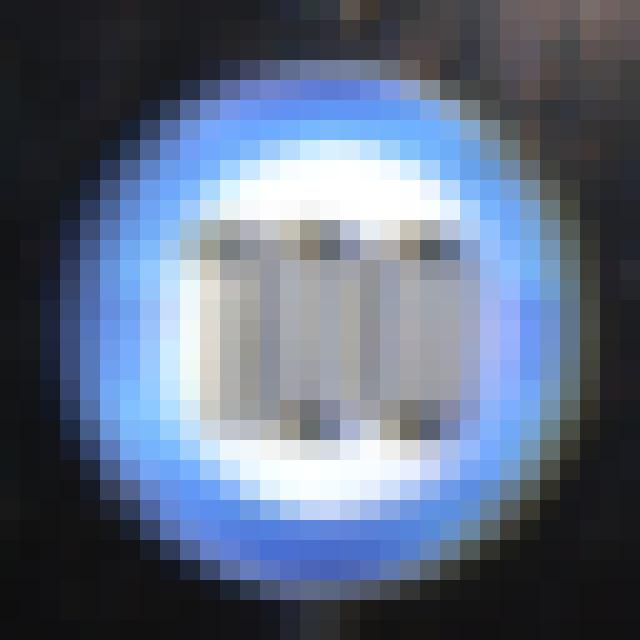SPEED LIMIT 100: (64, 67, 566, 587)
